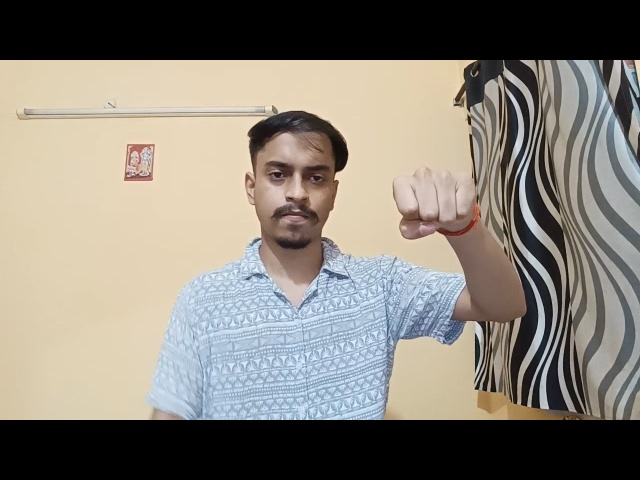Yes: (370, 152, 498, 251)
